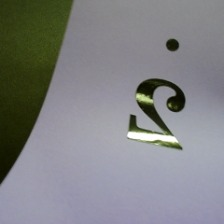violet2: (122, 31, 195, 155)
